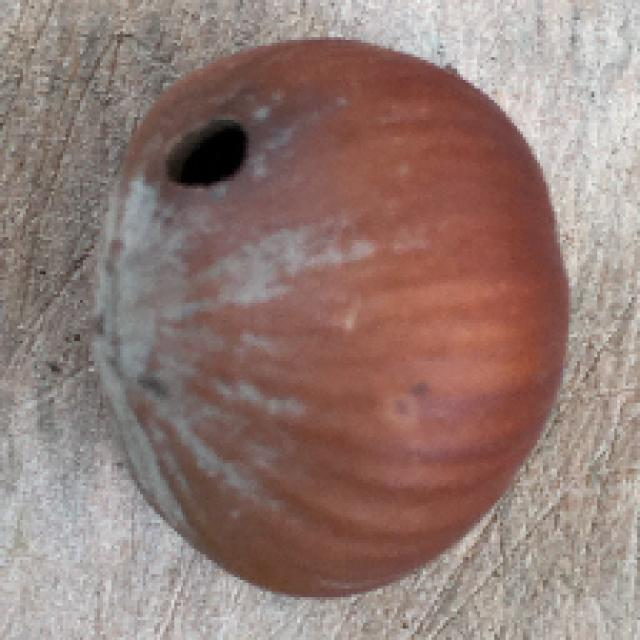damagedHazelnut: (95, 33, 570, 605)
